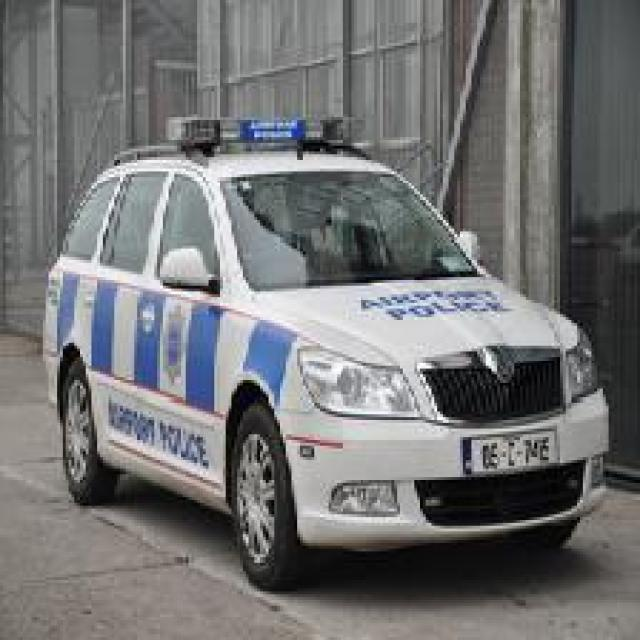emergency: (38, 109, 614, 592)
